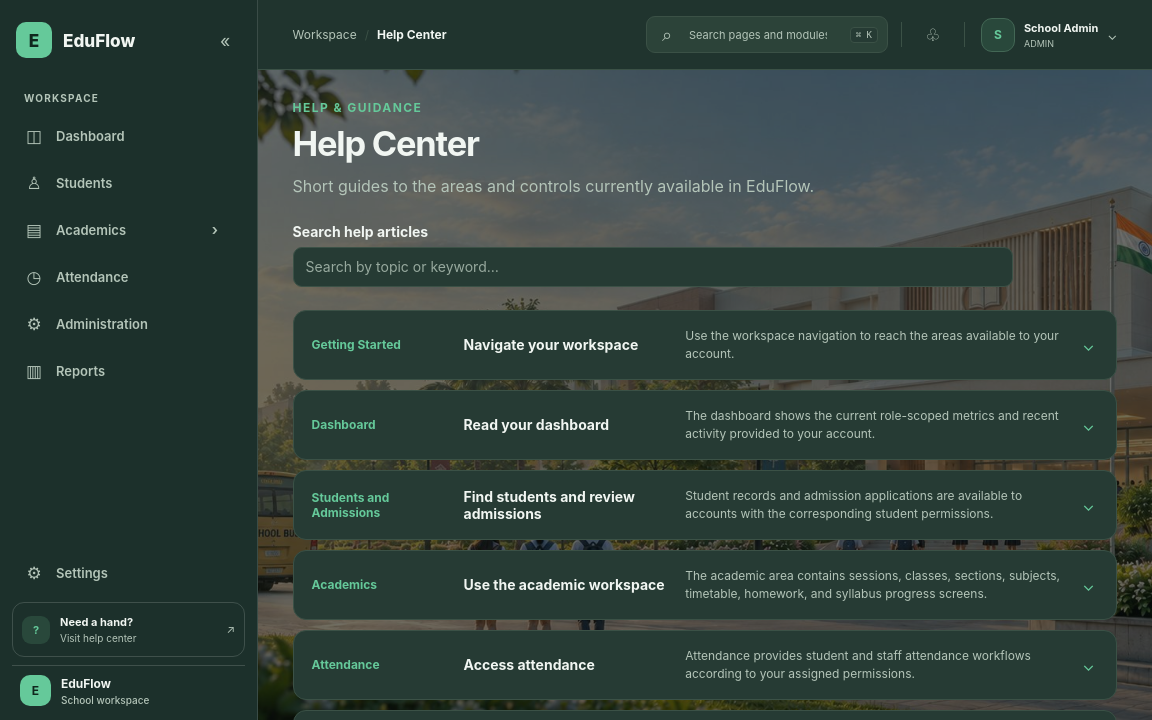
it: Help Center › navigates from an available article to its existing module route
This screenshot has width=1152, height=720.
Click the text "Use the academic workspace" at (568, 585), box [464, 576, 673, 593]
(page scrolled)
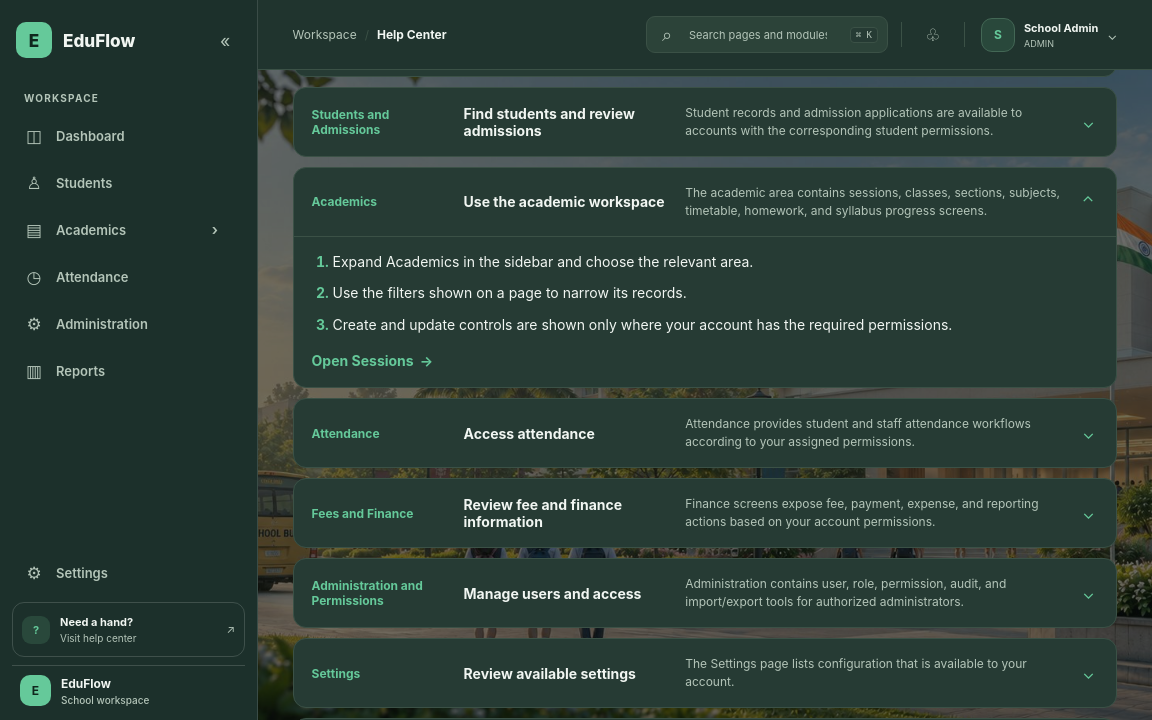
Click the link "Open Sessions →" at (372, 360), box [312, 352, 433, 369]
(page scrolled)
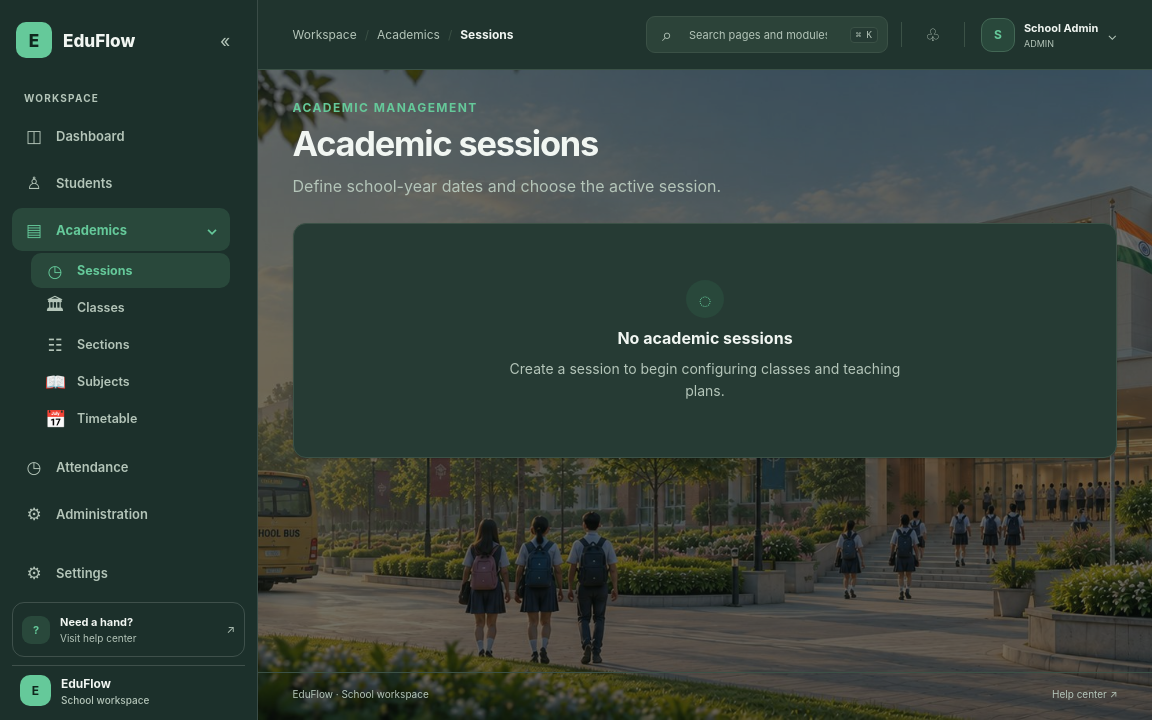
Now the heading "Academic sessions" is shown, box [292, 123, 598, 164]
